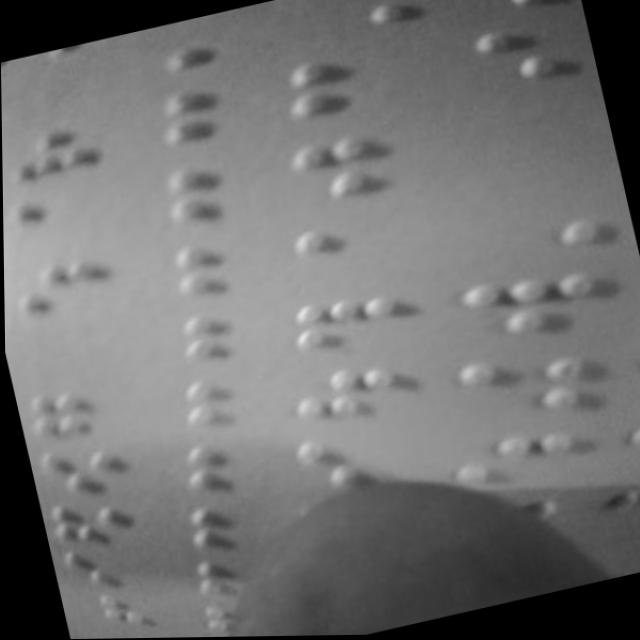braiile: (444, 336, 607, 437), (456, 252, 609, 355), (271, 33, 423, 134), (285, 119, 433, 217), (280, 274, 424, 370), (287, 412, 435, 505), (279, 348, 421, 443), (459, 9, 597, 100), (284, 201, 423, 289), (3, 243, 124, 324), (1, 114, 114, 198), (26, 428, 135, 504), (19, 373, 130, 444), (2, 181, 113, 251), (38, 484, 148, 554), (439, 0, 581, 34)
